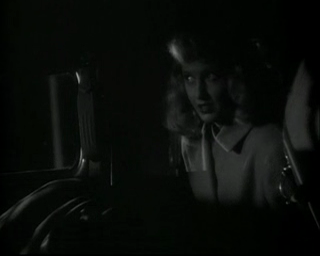face: (183, 66, 224, 122)
ms: (1, 1, 320, 256)
person: (167, 29, 304, 214)
